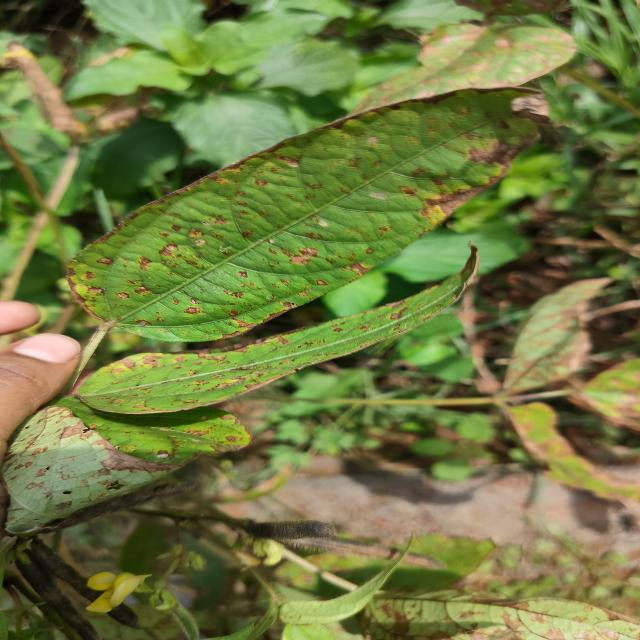Black gram_leaf spot: (67, 87, 547, 341), (76, 250, 477, 414)
